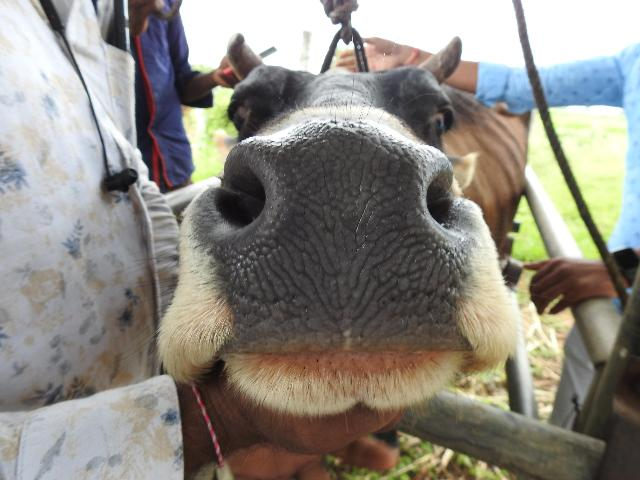Muzzle: (259, 140, 425, 330)
